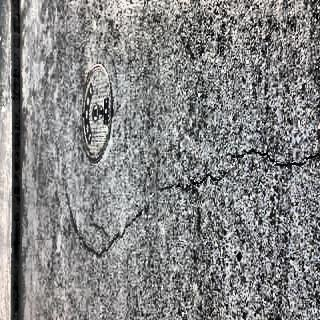crack: (54, 148, 320, 262)
